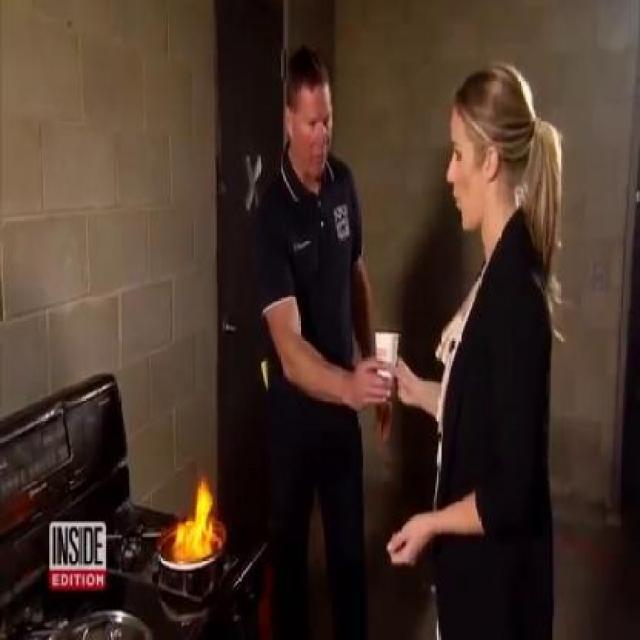fire: (158, 448, 240, 572)
